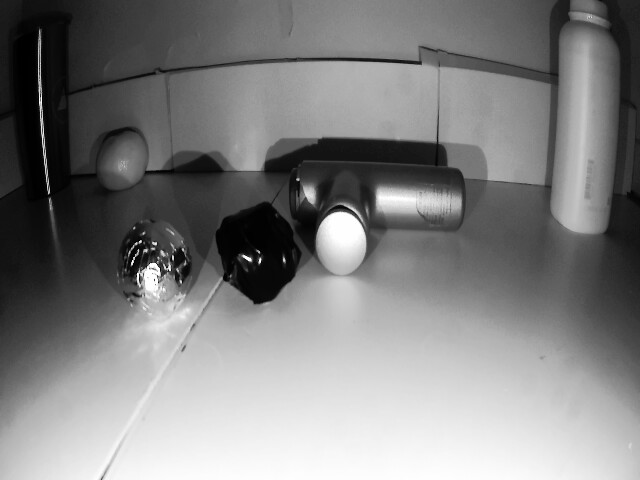black: (212, 197, 304, 289)
silver: (111, 224, 201, 309)
